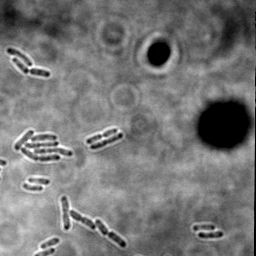Dividing: (85, 126, 119, 145), (68, 209, 96, 231), (59, 196, 70, 231)
Microcolony: (13, 128, 74, 163)
Rod: (88, 131, 124, 151), (5, 46, 33, 68), (38, 236, 61, 251), (11, 56, 29, 75), (107, 231, 127, 248), (197, 229, 225, 241), (28, 67, 51, 79), (94, 218, 109, 236), (21, 182, 44, 193), (27, 176, 51, 186), (191, 223, 217, 232)
